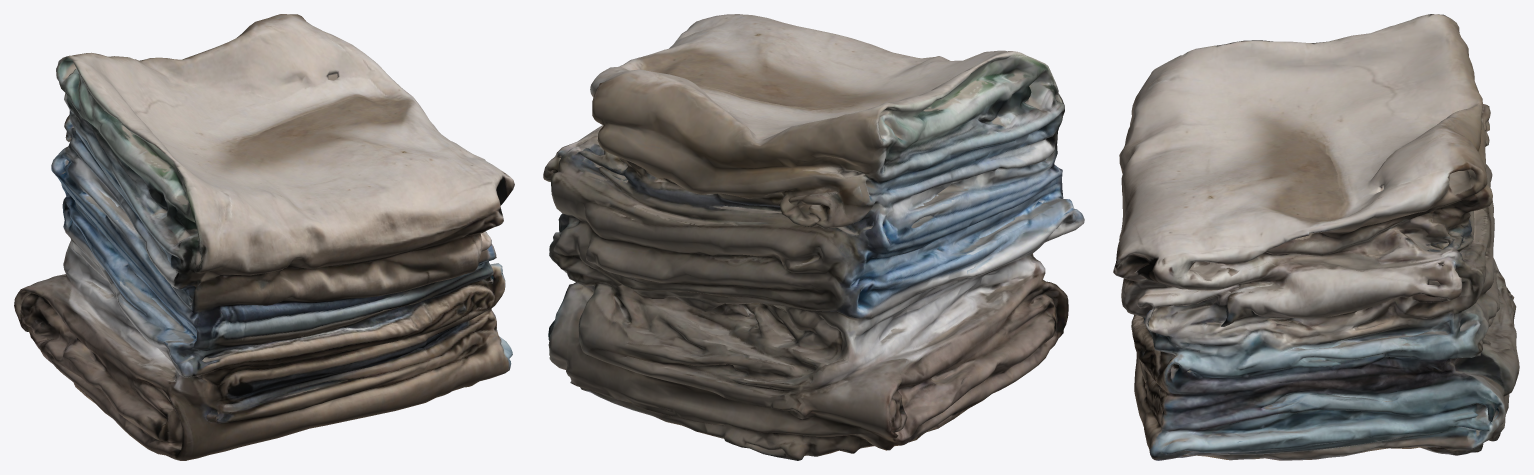
File: folded_laundry_with_s_1108143723_refine.fbx
3 views of the same model, side by side, from view 1: azimuth 30°, elevation 25°; view 2: azimuth 150°, elevation 25°; view 3: azimuth 270°, elevation 25° (orthographic). The views are drawn at different scales.
Parts seen in each view (by area): view 1: Mesh_0; view 2: Mesh_0; view 3: Mesh_0.
Boxes of the visible parts, <box> form: Mesh_0: <box>14,14,514,460</box>; Mesh_0: <box>543,14,1084,460</box>; Mesh_0: <box>1113,14,1519,460</box>.
Size of the model in its own units: 199 by 165 by 192.
Materials: 1 (1 with a texture image).
